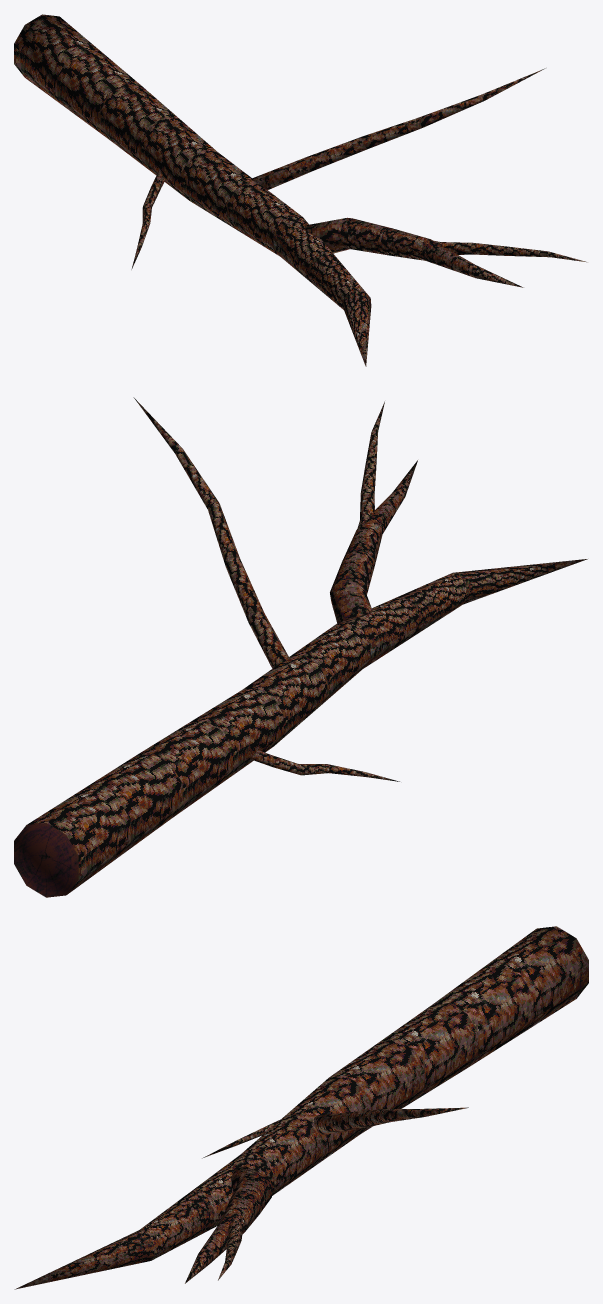
Rendered from fallenLog.glb.
3 renders of one model, top to bottom at view 1: azimuth 30°, elevation 25°; view 2: azimuth 150°, elevation 25°; view 3: azimuth 330°, elevation 25°, orthographic. The views are drawn at different scales.
Parts seen in each view (by area): view 1: Cylinder; view 2: Cylinder; view 3: Cylinder.
Part boxes in pixels (<box>): Cylinder: <box>14,14,587,366</box>; Cylinder: <box>14,397,587,897</box>; Cylinder: <box>14,926,588,1289</box>.
Bounding box in the file's own units: 4.37 × 2.44 × 9.8.
2 materials, 2 textured.
